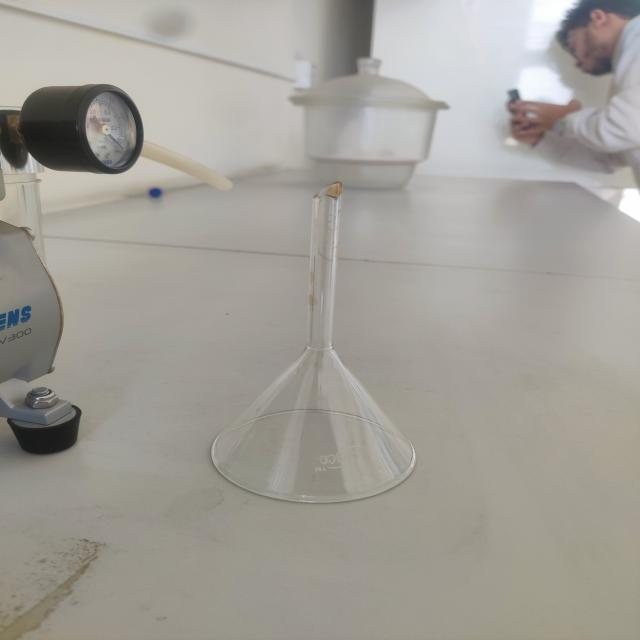Funnel: (186, 173, 461, 528)
